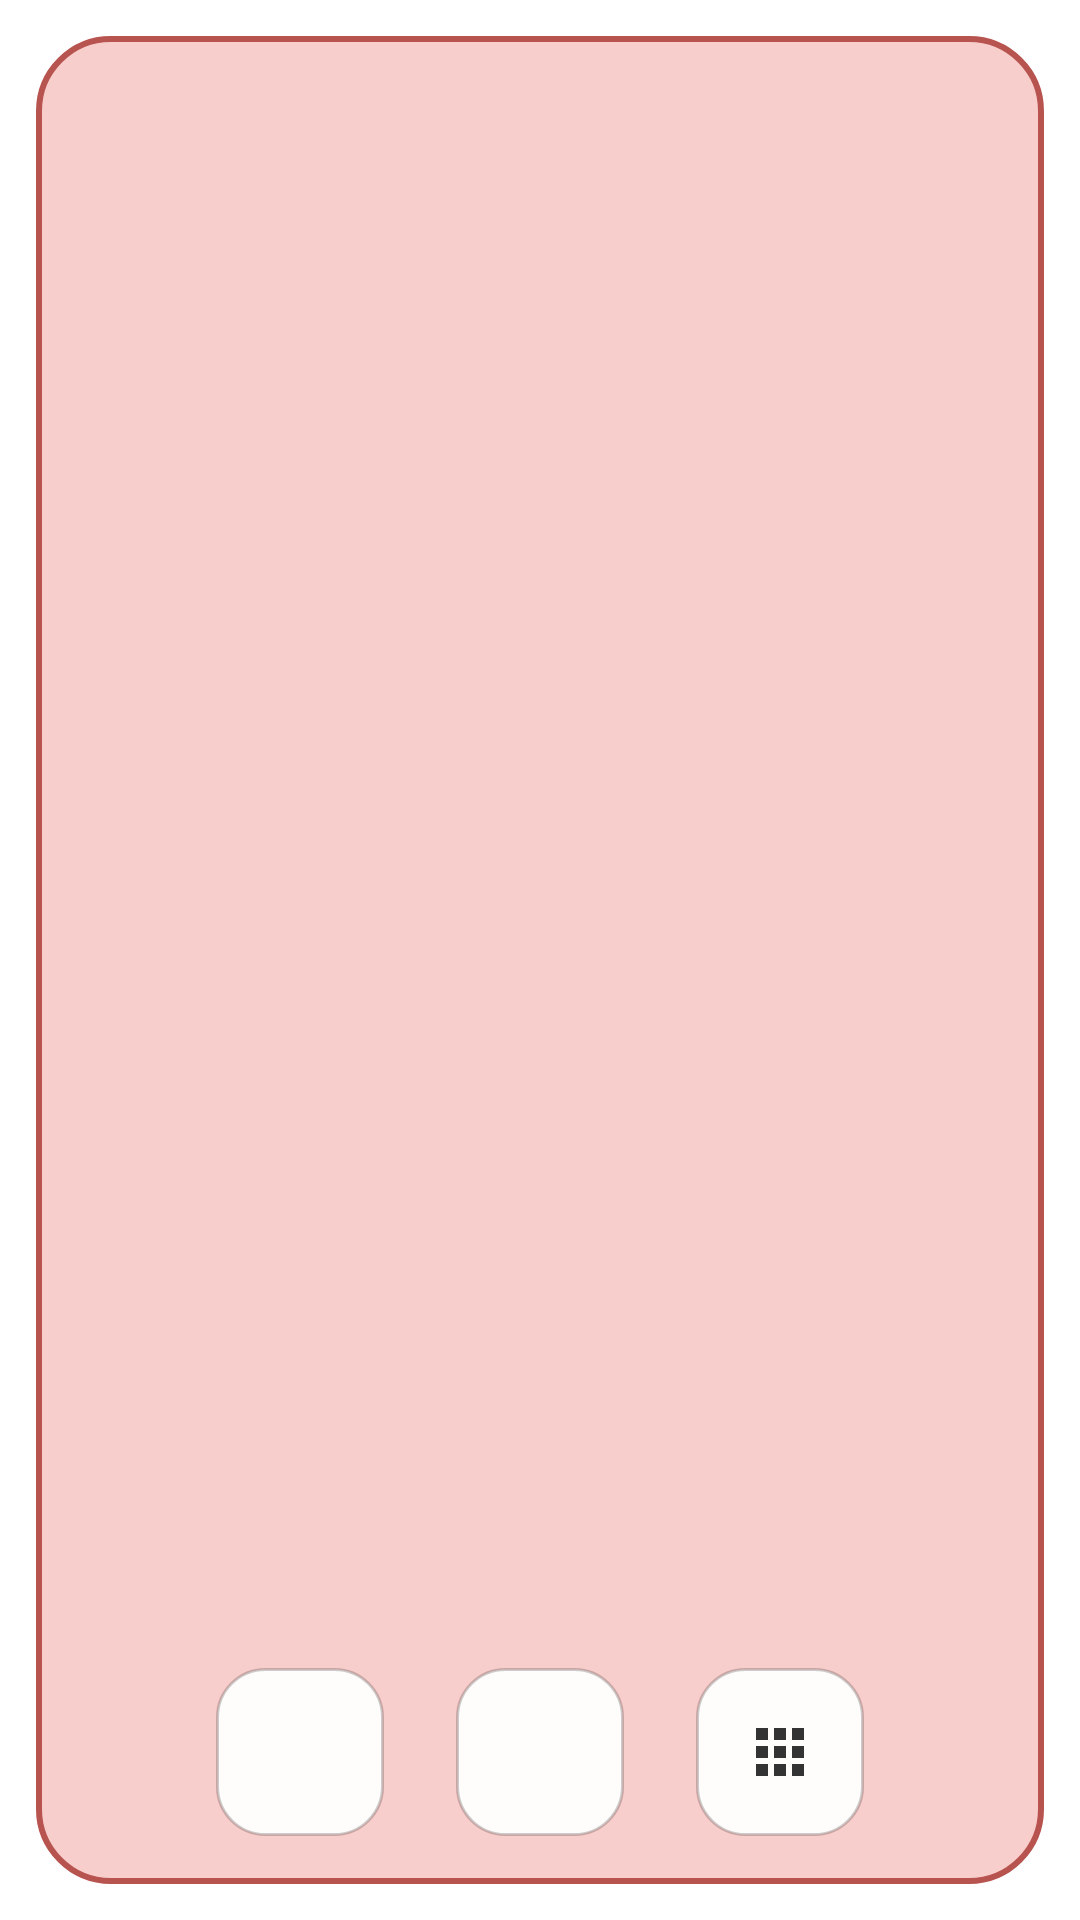

Point at icon controls on the screen. Image size 1080px x 1920px, points as point (x, y).
Menú: point (780, 1752)
